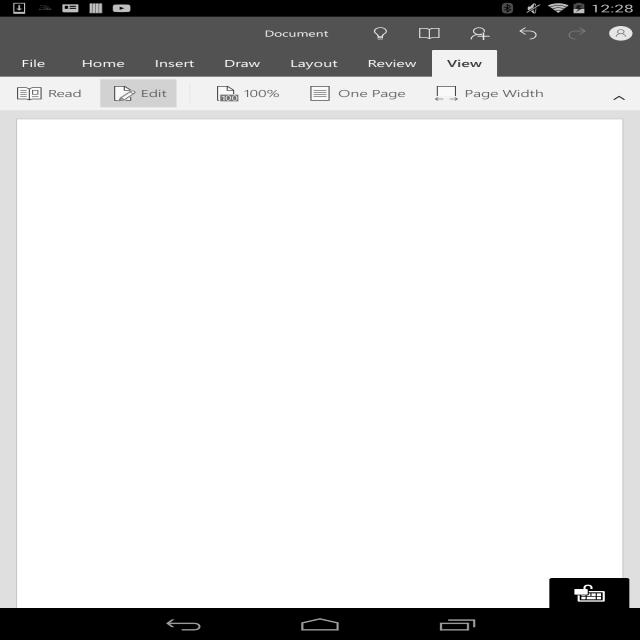Button: (424, 80, 554, 108), (298, 80, 416, 108), (203, 80, 289, 108), (361, 21, 401, 46), (508, 21, 548, 46), (557, 21, 597, 46), (599, 81, 636, 106)
ImageView: (609, 26, 633, 41)
TextView: (209, 23, 335, 44), (353, 50, 432, 77), (275, 50, 353, 77), (66, 50, 140, 77), (140, 50, 209, 77), (0, 50, 67, 77), (209, 50, 275, 77), (432, 50, 497, 77), (0, 110, 640, 111), (190, 84, 190, 104)
